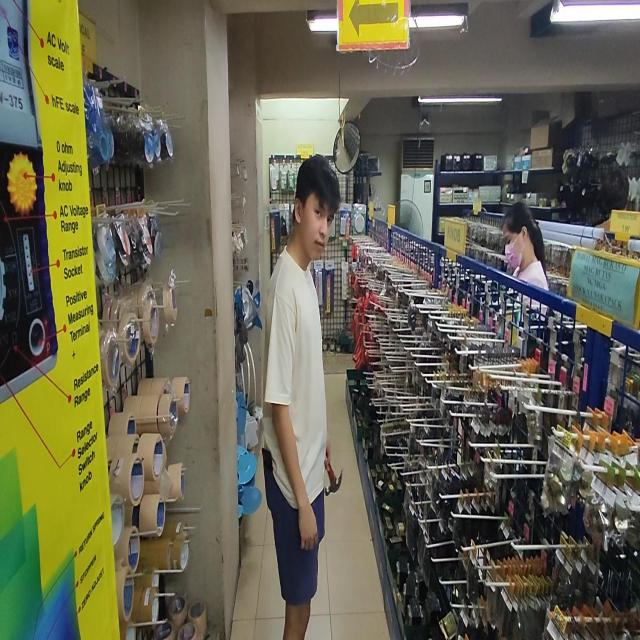hammer: (325, 455, 343, 496)
